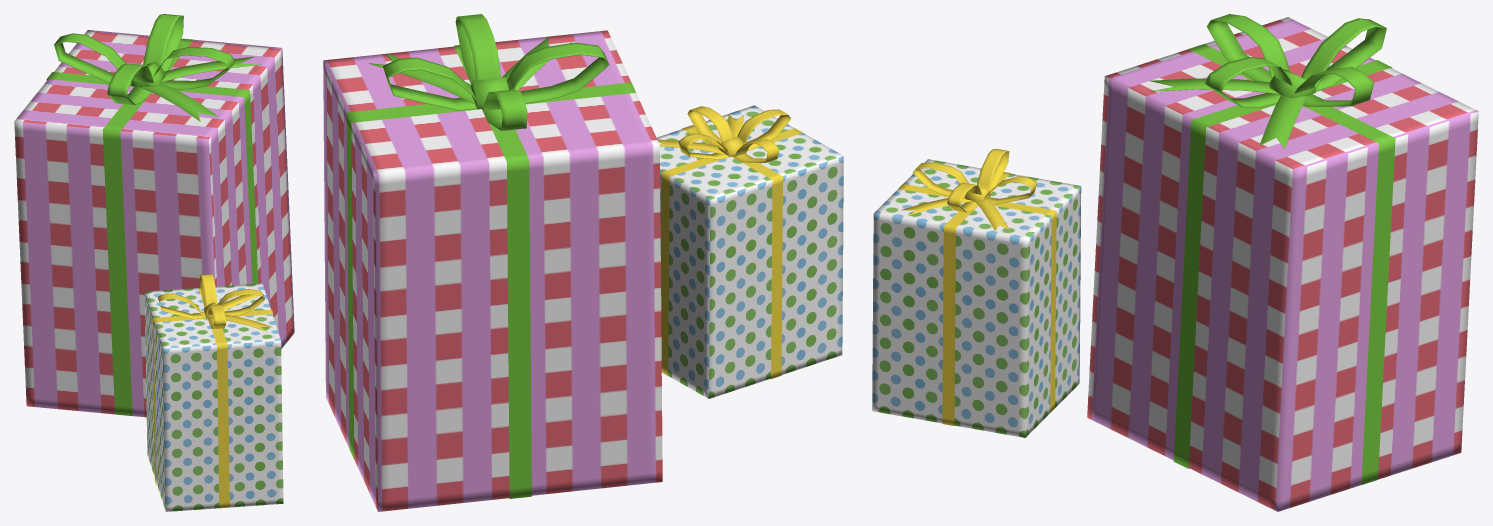
The model's file is Paket_6.glb.
The picture shows the model from 3 angles, left to right: view 1: azimuth 30°, elevation 25°; view 2: azimuth 150°, elevation 25°; view 3: azimuth 270°, elevation 25°; orthographic projection. The views are drawn at different scales.
Parts seen in each view (by area): view 1: Paket.006; view 2: Paket.006; view 3: Paket.006.
Boxes of the visible parts, bbox=[...] form: Paket.006: bbox=[14, 14, 294, 511]; Paket.006: bbox=[323, 14, 843, 511]; Paket.006: bbox=[872, 14, 1478, 511].
Bounding box in the file's own units: 0.9795 × 1.11 × 1.54.
Materials: 4 (2 with a texture image).
